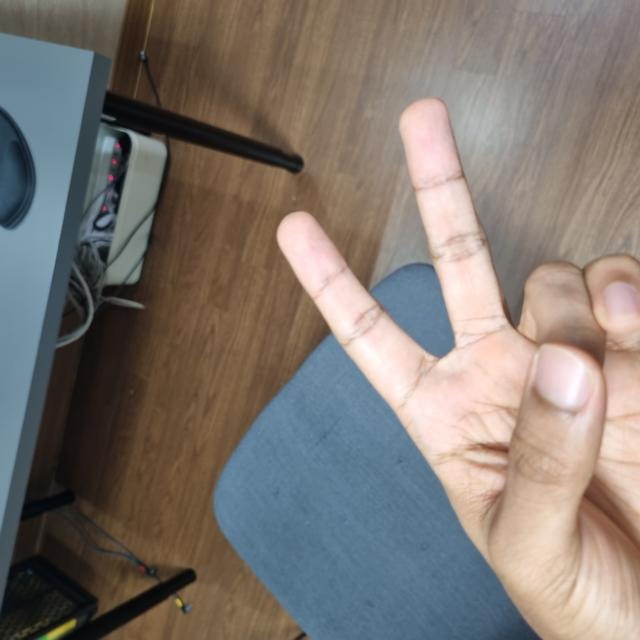Scissors: (3, 283, 535, 638)
